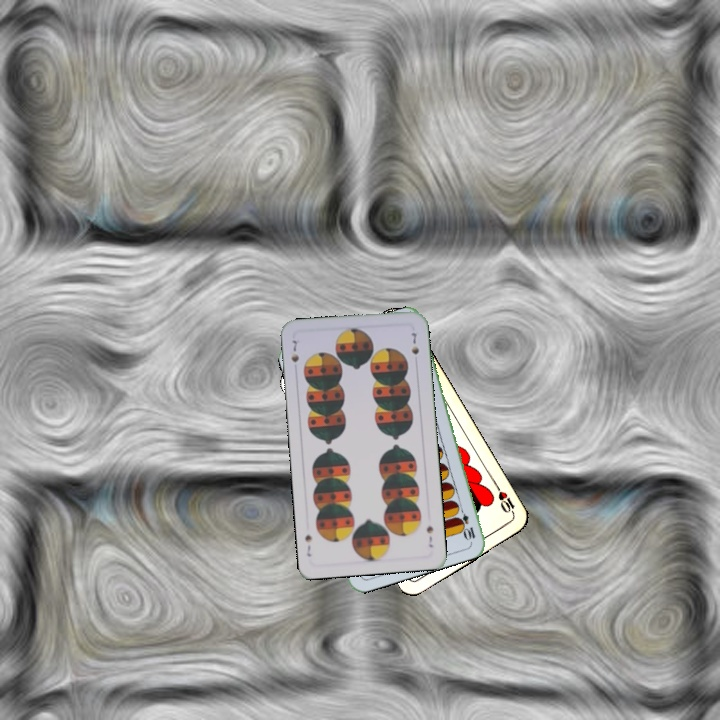E10: (455, 503, 478, 543)
H10: (492, 481, 518, 518)
S7: (287, 336, 302, 365), (422, 522, 436, 550)
